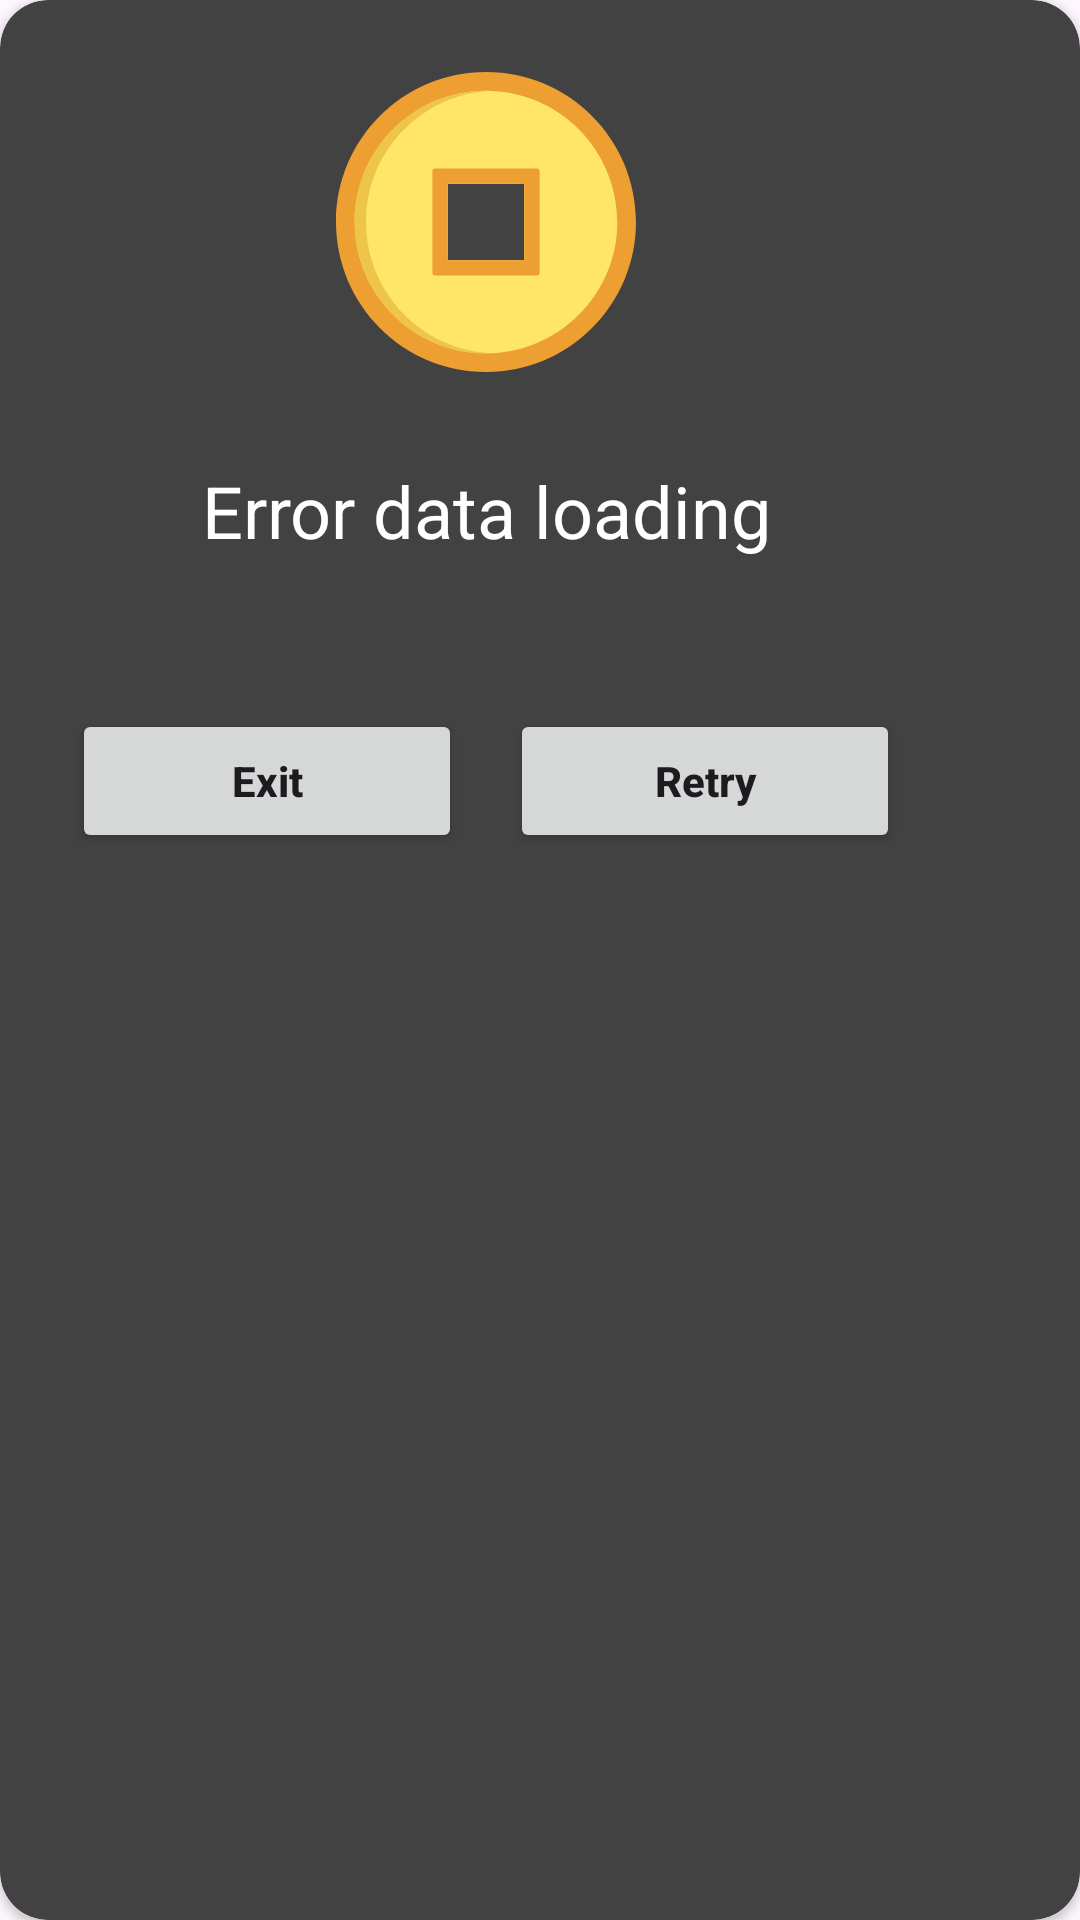

Where icons sit on this 1080 x 1920 app screen, as (x1,y1,x2,y2):
admin machines coin: (336,72,636,372)
